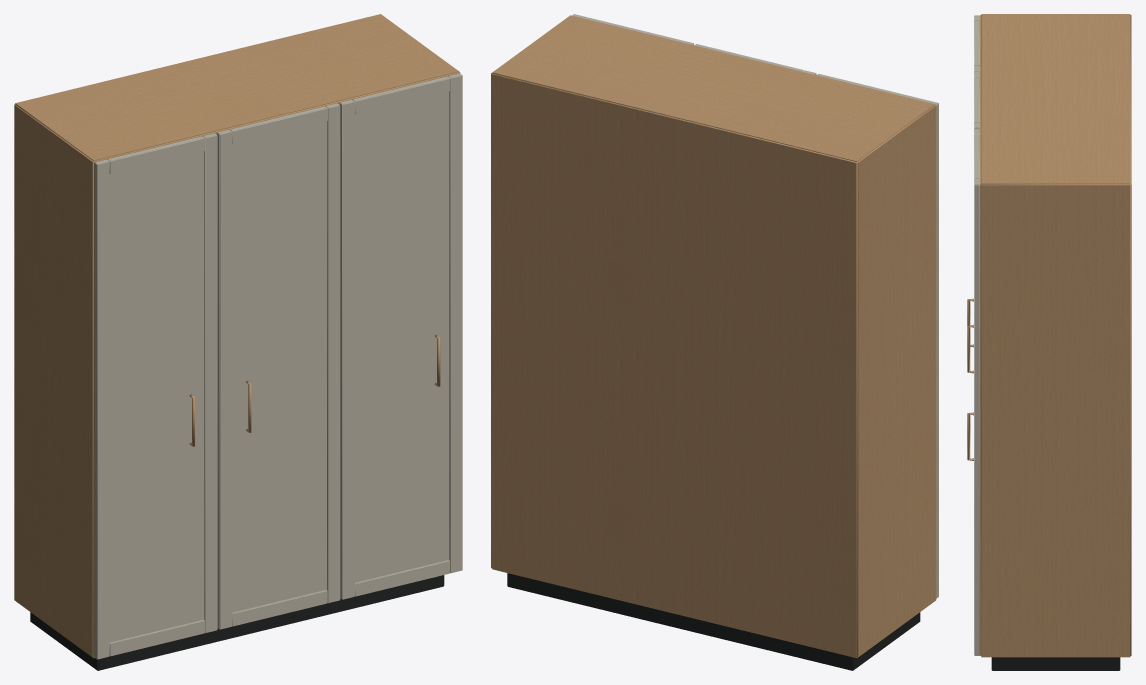
Rendered from scandinavian.wardrobe.gltf.
3 views of the same model, side by side, from view 1: azimuth 30°, elevation 25°; view 2: azimuth 150°, elevation 25°; view 3: azimuth 270°, elevation 25° (orthographic). The views are drawn at different scales.
Visible parts, largest first — view 1: scandinavian.wardrobe.carcass; view 2: scandinavian.wardrobe.carcass; view 3: scandinavian.wardrobe.carcass.
Boxes of the visible parts, x1,y1,x2,y2 form: scandinavian.wardrobe.carcass: (14, 14, 462, 670); scandinavian.wardrobe.carcass: (491, 14, 938, 670); scandinavian.wardrobe.carcass: (967, 14, 1131, 670).
Size of the model in its own units: 1.6 by 2.15 by 0.6507.
Materials: 3 (1 with a texture image).
